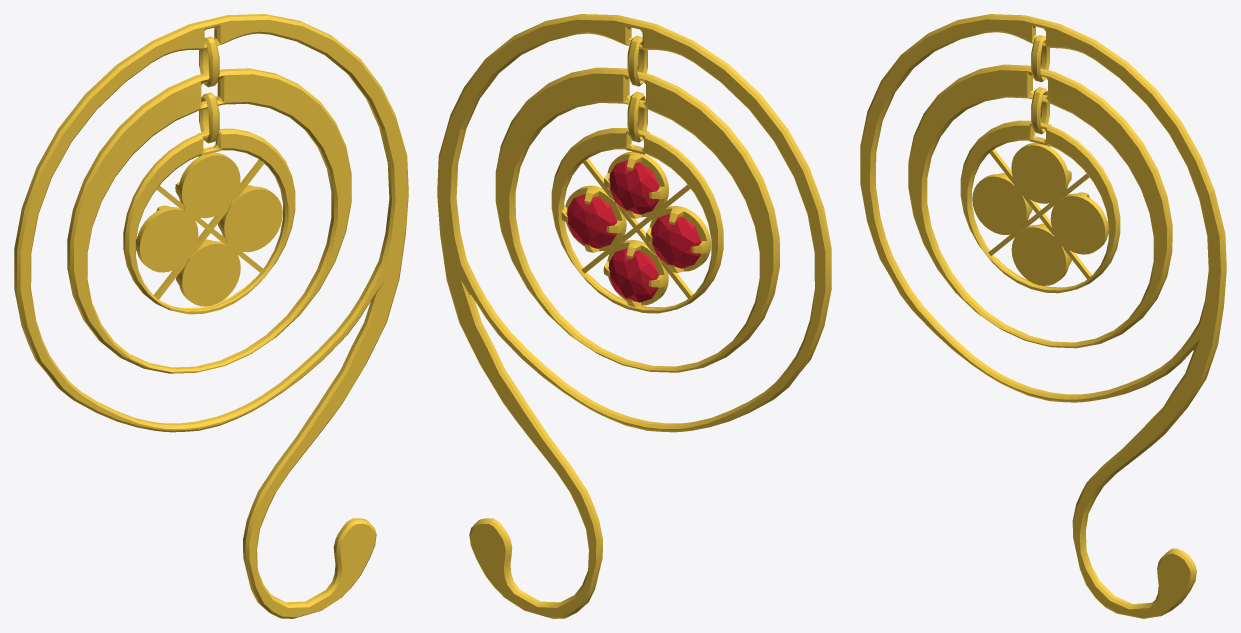
File: danglyMiddle.glb
The picture shows the model from 3 angles, left to right: view 1: azimuth 30°, elevation 25°; view 2: azimuth 150°, elevation 25°; view 3: azimuth 330°, elevation 25°; orthographic projection. The views are drawn at different scales.
Visible parts, largest first — view 1: middle; view 2: middle; view 3: middle.
Part boxes in pixels (<box>): middle: <box>14,14,408,618</box>; middle: <box>437,14,831,618</box>; middle: <box>860,14,1226,618</box>.
Bounding box in the file's own units: 1.92 × 2.89 × 0.1294.
